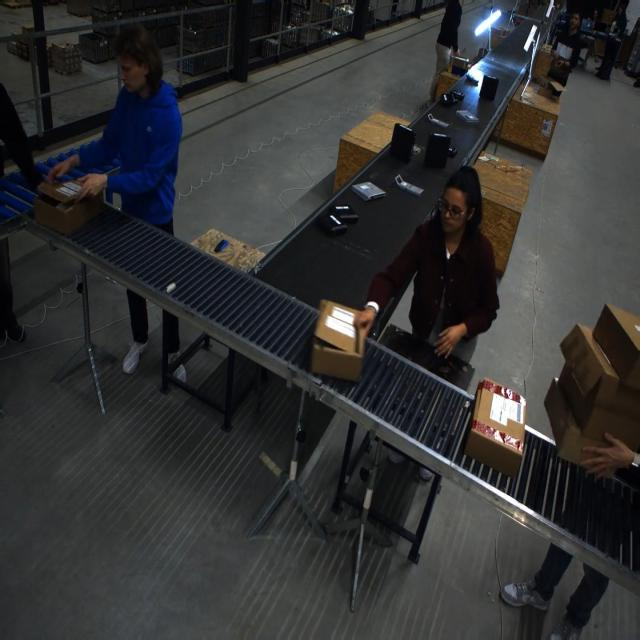box: (543, 311, 639, 469), (462, 377, 522, 476), (310, 299, 364, 378), (591, 304, 639, 389), (34, 180, 103, 235)
product: (389, 123, 417, 165), (423, 132, 451, 169), (351, 181, 385, 201), (318, 213, 346, 237), (394, 175, 423, 197), (479, 74, 499, 100), (331, 203, 358, 222), (427, 113, 450, 128), (456, 109, 479, 123), (441, 93, 457, 106), (465, 73, 478, 85), (451, 90, 465, 101)
